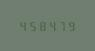eight: (38, 20, 47, 31)
five: (27, 20, 36, 31)
four: (17, 20, 26, 31), (48, 20, 57, 31)
nine: (68, 20, 77, 31)
seven: (58, 20, 67, 31)
